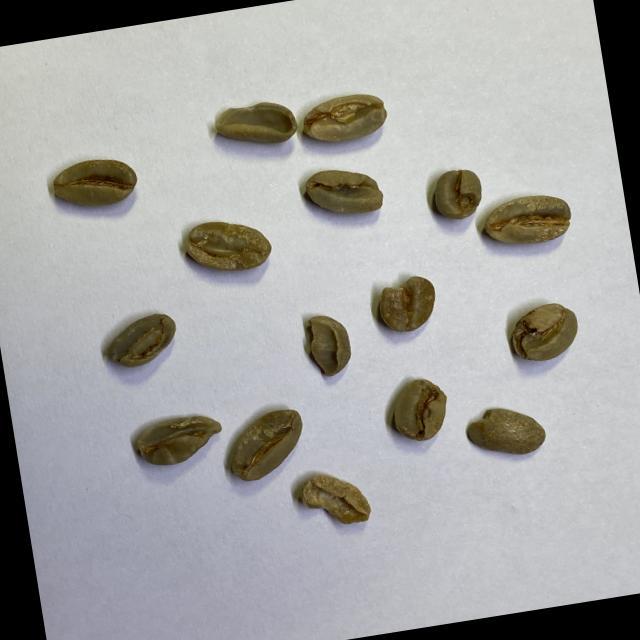bad: (222, 406, 312, 485), (182, 212, 276, 280), (131, 409, 227, 471), (298, 87, 392, 149), (462, 399, 550, 463), (210, 96, 302, 155), (506, 298, 584, 366), (302, 160, 386, 223), (296, 466, 375, 532), (101, 310, 182, 371), (387, 374, 455, 446), (374, 272, 441, 336), (302, 309, 358, 381), (430, 165, 488, 225)
good: (48, 152, 142, 216), (479, 188, 576, 250)
